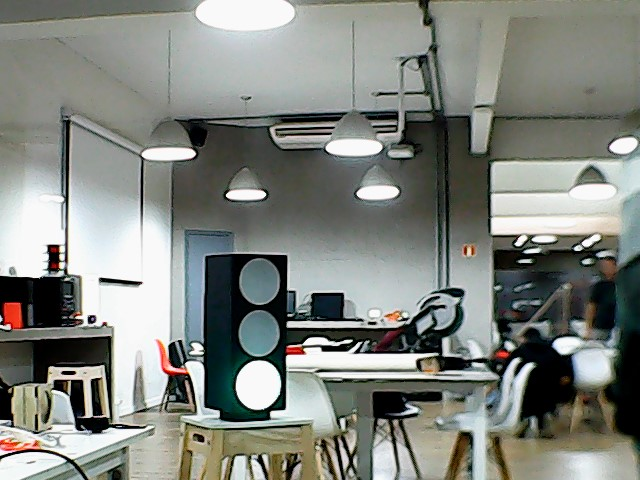verde: (199, 252, 292, 423)
